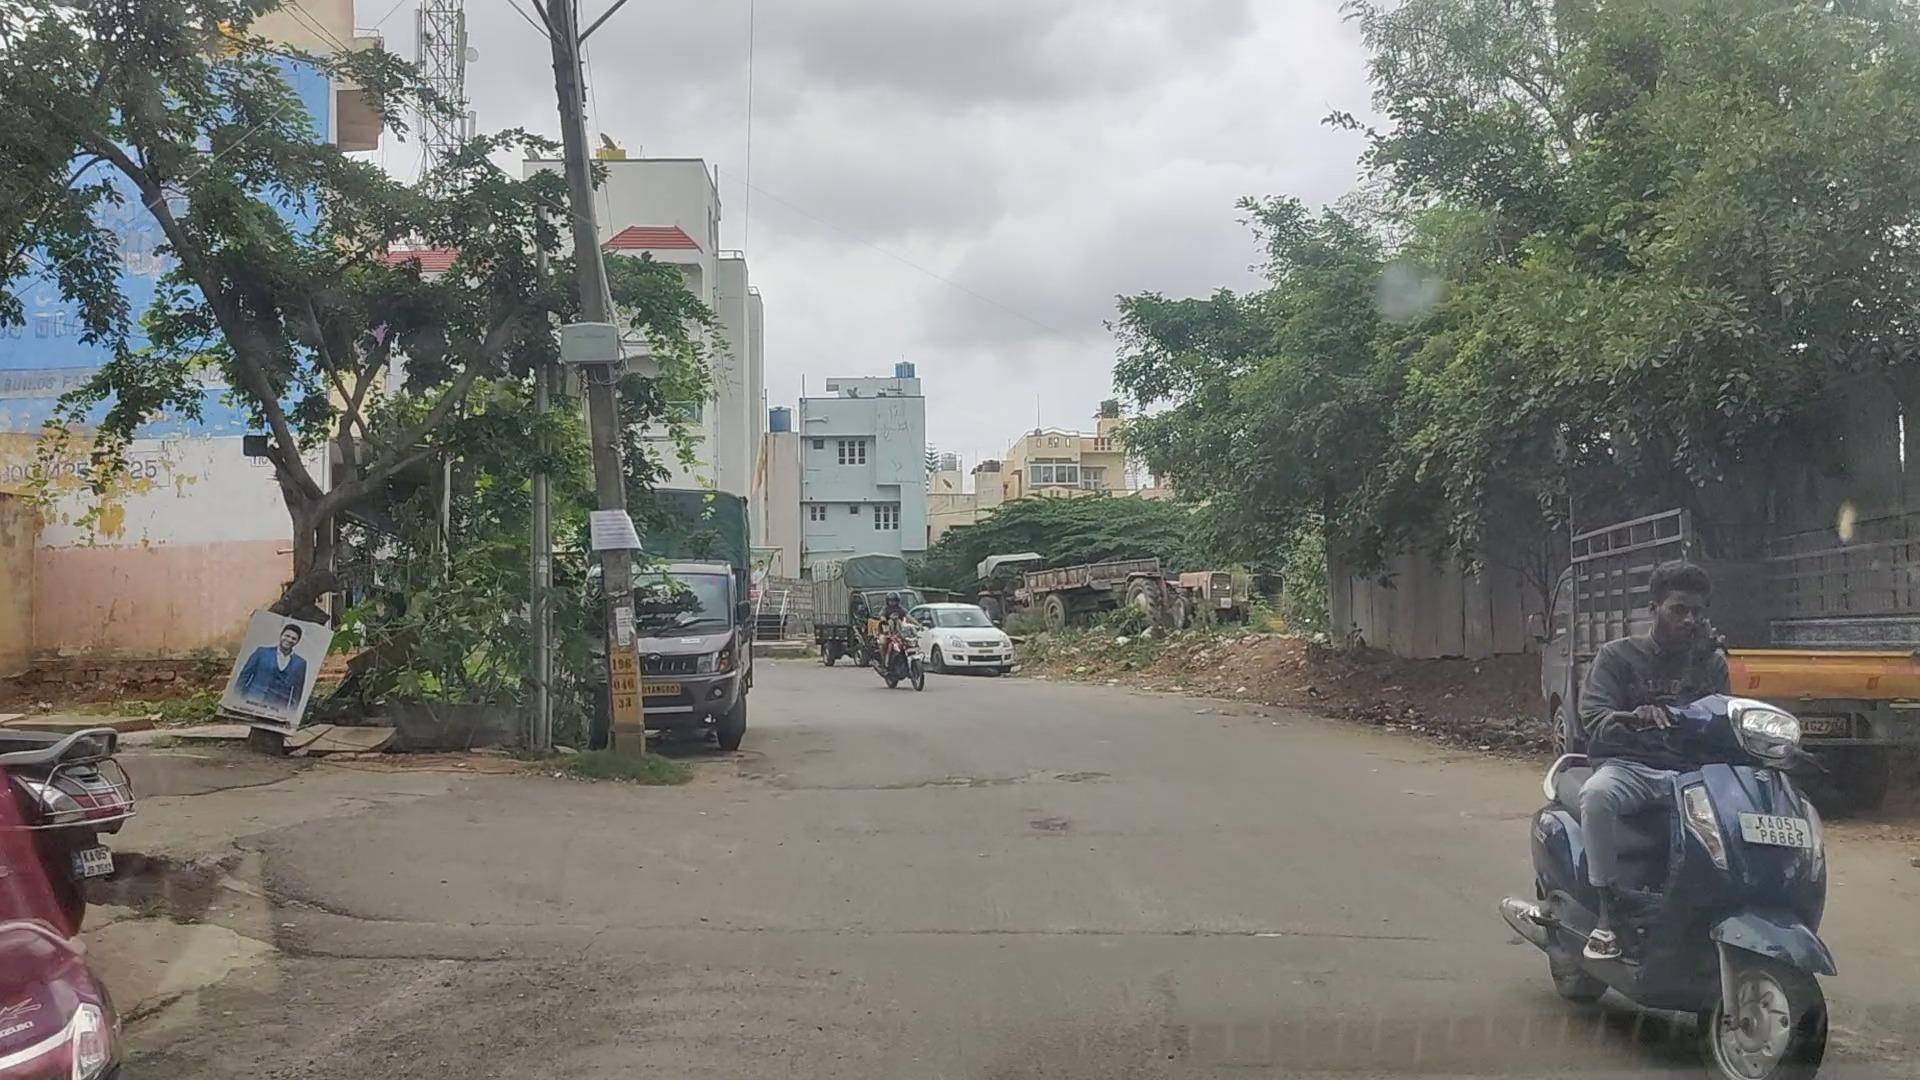LMV: (1404, 580, 1534, 940)
RoadDamages: (425, 935, 651, 1080), (767, 774, 1023, 796), (1058, 762, 1109, 791)
